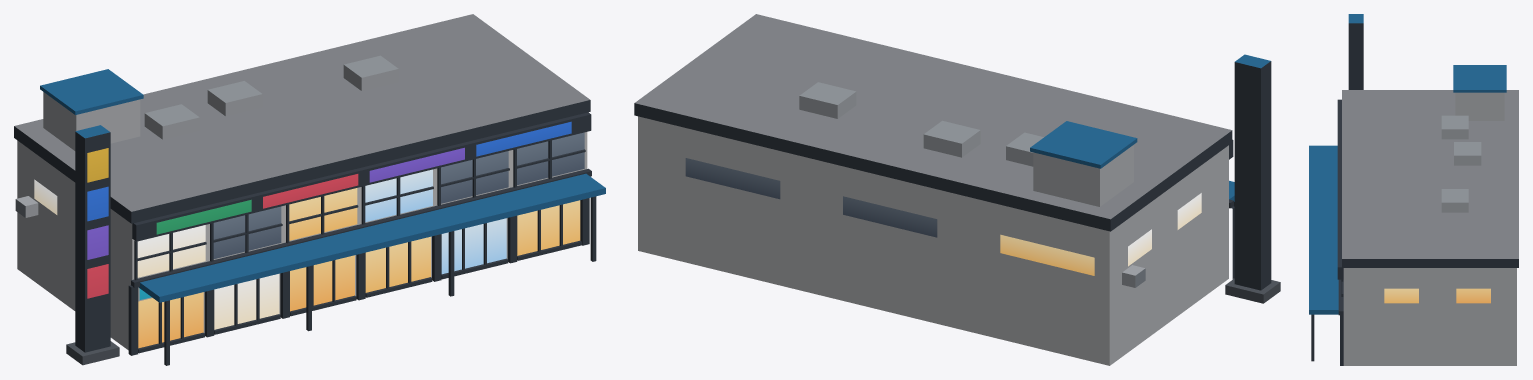
File: bld_com_B_intact.meshopt.glb
3 renders of one model, left to right at view 1: azimuth 30°, elevation 25°; view 2: azimuth 150°, elevation 25°; view 3: azimuth 270°, elevation 25°, orthographic. The views are drawn at different scales.
Visible parts, largest first — view 1: bld_com_B_intact; view 2: bld_com_B_intact; view 3: bld_com_B_intact.
Boxes of the visible parts, <box> form: bld_com_B_intact: <box>14,14,605,365</box>; bld_com_B_intact: <box>634,14,1280,365</box>; bld_com_B_intact: <box>1309,14,1518,365</box>.
Size of the model in its own units: 35.65 by 15 by 16.95.
